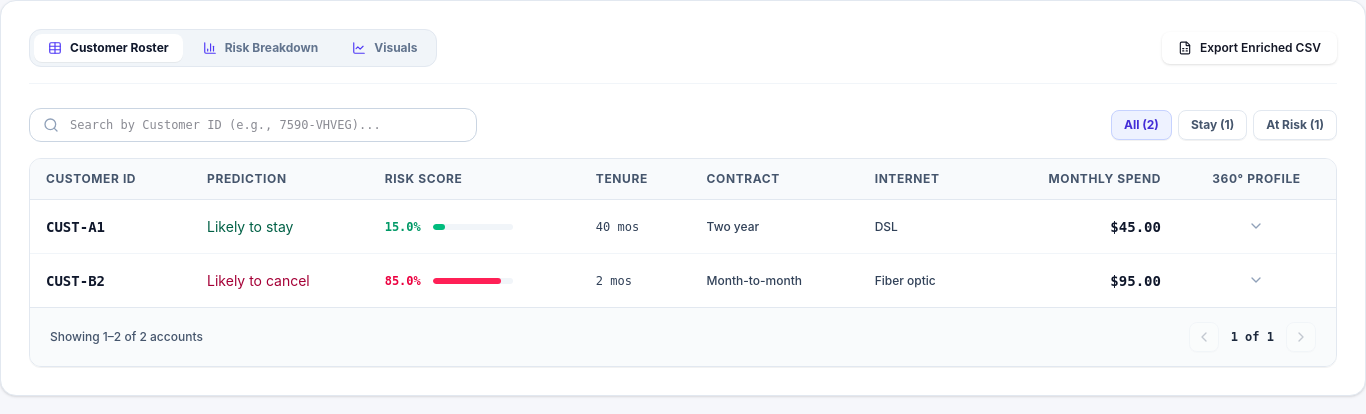
Scenario: ResultsTable Component › filters records by prediction status tabs
The width and height of the screenshot is (1366, 414).
Step 1. Click the button "Stay (1)" → (1213, 125), box [1178,110,1247,140]
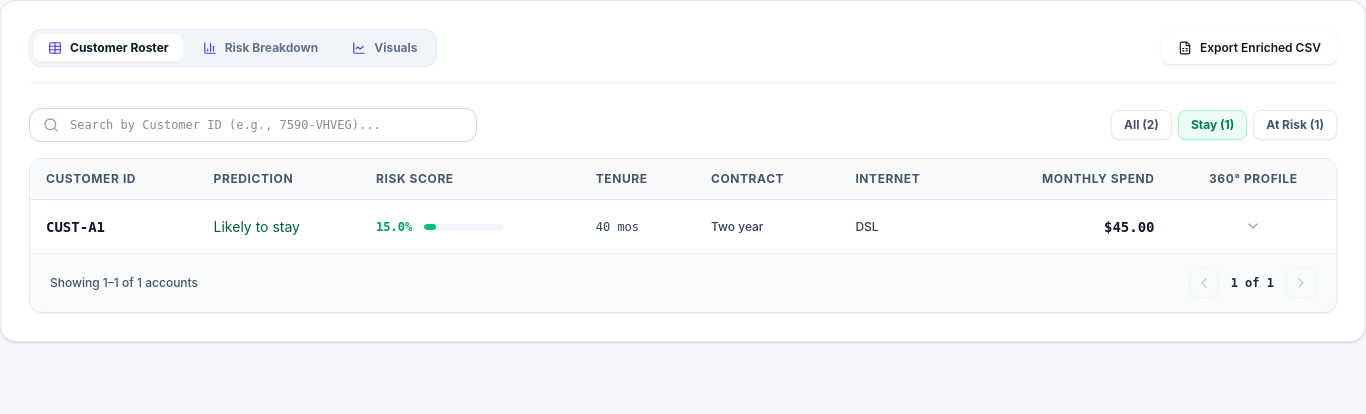
expect the text "CUST-A1" is shown: met, box [30,200,198,253]
expect the text "CUST-B2" is gone: met
